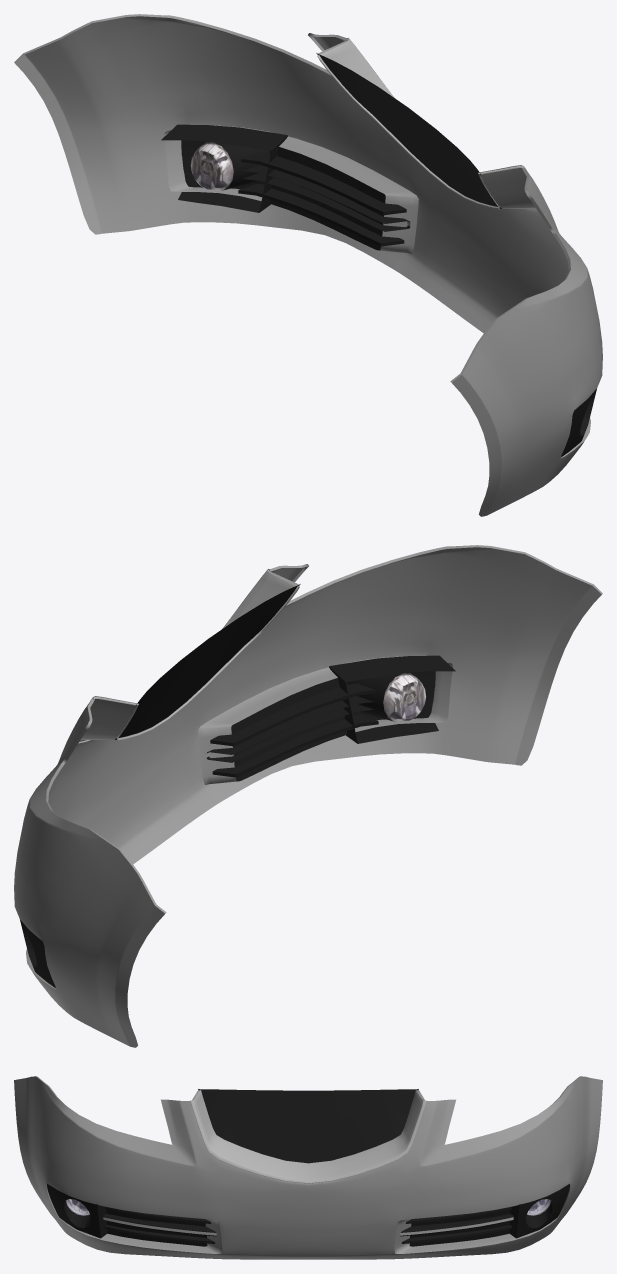
The picture shows the model from 3 angles, top to bottom: view 1: azimuth 30°, elevation 25°; view 2: azimuth 150°, elevation 25°; view 3: azimuth 270°, elevation 25°; orthographic projection. The views are drawn at different scales.
Parts seen in each view (by area): view 1: X8163_021G_C_X8163_021G_C_2_DaS, X8163_021G_C_X8163_021G_C_6_D, X8163_021G_C_1_D_X8163_021G_C, X8163_021G_C_X8163_021G_C_2_DaS_E, X8163_021G_C_X8163_021G_C_5_DaS, X8163_021G_C_X8163_021G_C_3_N; view 2: X8163_021G_C_X8163_021G_C_2_DaS, X8163_021G_C_X8163_021G_C_6_D, X8163_021G_C_1_D_X8163_021G_C, X8163_021G_C_X8163_021G_C_2_DaS_E, X8163_021G_C_X8163_021G_C_5_DaS, X8163_021G_C_X8163_021G_C_4_N; view 3: X8163_021G_C_X8163_021G_C_2_DaS, X8163_021G_C_1_D_X8163_021G_C, X8163_021G_C_X8163_021G_C_6_D, X8163_021G_C_X8163_021G_C_5_DaS, X8163_021G_C_X8163_021G_C_2_DaS_E.
Boxes of the visible parts, box(x1,y1,x2,y2) form: X8163_021G_C_X8163_021G_C_2_DaS: box(15, 16, 602, 516); X8163_021G_C_X8163_021G_C_6_D: box(161, 124, 596, 456); X8163_021G_C_1_D_X8163_021G_C: box(269, 53, 501, 250); X8163_021G_C_X8163_021G_C_2_DaS_E: box(14, 14, 590, 458); X8163_021G_C_X8163_021G_C_5_DaS: box(317, 38, 538, 226); X8163_021G_C_X8163_021G_C_3_N: box(190, 142, 233, 190); X8163_021G_C_X8163_021G_C_2_DaS: box(14, 547, 601, 1047); X8163_021G_C_X8163_021G_C_6_D: box(20, 655, 455, 987); X8163_021G_C_1_D_X8163_021G_C: box(115, 584, 347, 781); X8163_021G_C_X8163_021G_C_2_DaS_E: box(26, 545, 602, 989); X8163_021G_C_X8163_021G_C_5_DaS: box(78, 569, 299, 757); X8163_021G_C_X8163_021G_C_4_N: box(383, 673, 426, 721); X8163_021G_C_X8163_021G_C_2_DaS: box(14, 1076, 602, 1259); X8163_021G_C_1_D_X8163_021G_C: box(106, 1089, 510, 1246); X8163_021G_C_X8163_021G_C_6_D: box(47, 1183, 569, 1243); X8163_021G_C_X8163_021G_C_5_DaS: box(103, 1090, 513, 1235); X8163_021G_C_X8163_021G_C_2_DaS_E: box(36, 1076, 580, 1253).
Bounding box in the file's own units: 70.72 × 62.55 × 208.
